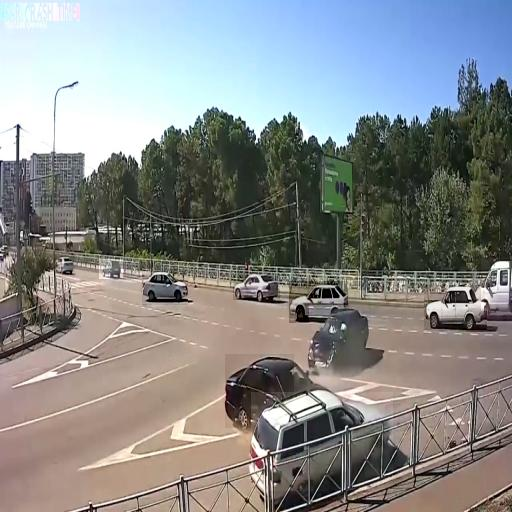小汽车: (251, 392, 393, 491), (225, 354, 294, 428), (309, 305, 371, 374), (424, 286, 487, 332), (289, 281, 348, 323), (481, 258, 512, 311), (142, 272, 188, 306), (233, 268, 280, 300), (54, 254, 75, 277), (99, 259, 123, 279)
